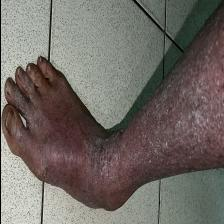Psoriasis vulgaris: (138, 102, 168, 154)
